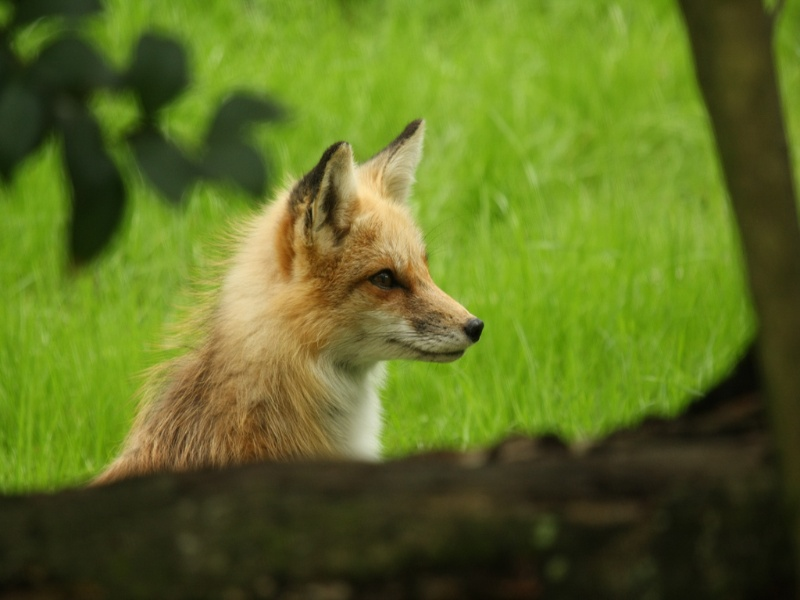fox: (79, 114, 489, 498)
